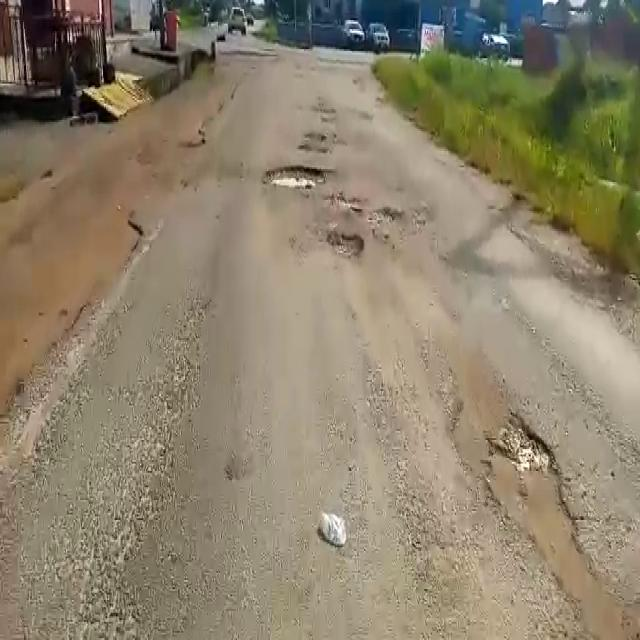Pothole: (490, 412, 590, 566), (260, 164, 328, 190), (319, 226, 365, 254), (368, 205, 406, 233), (325, 194, 367, 218)
